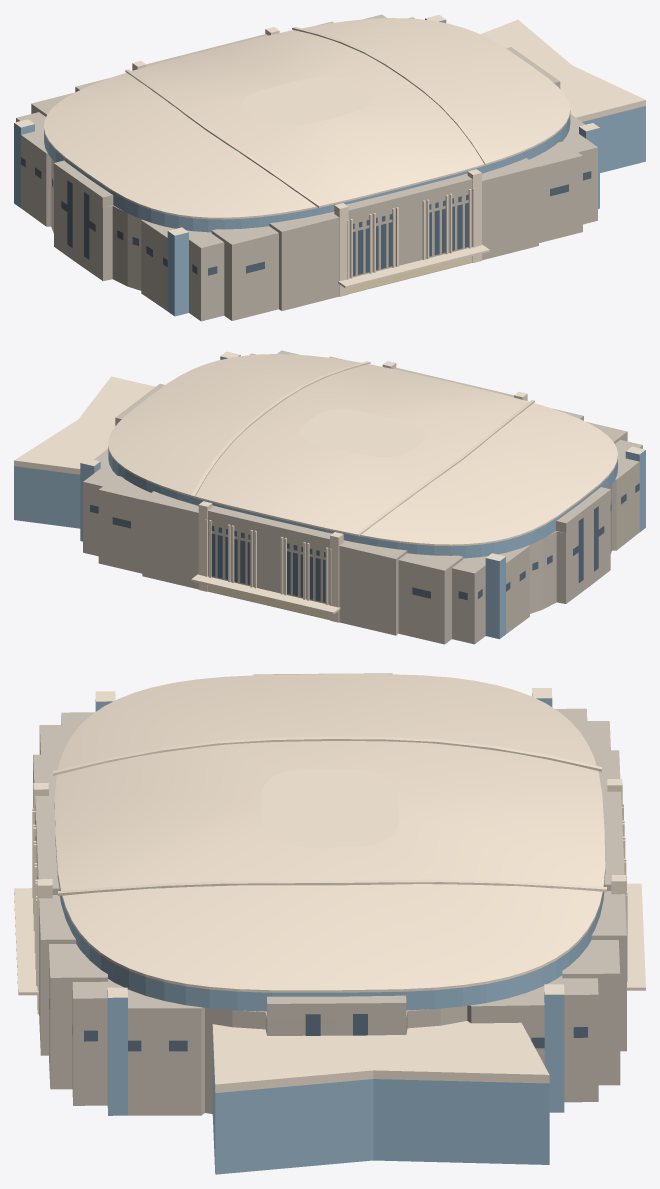
Rendered from detail.glb.
The picture shows the model from 3 angles, top to bottom: view 1: azimuth 30°, elevation 25°; view 2: azimuth 150°, elevation 25°; view 3: azimuth 270°, elevation 25°; orthographic projection. The views are drawn at different scales.
Visible parts, largest first — view 1: united-center; view 2: united-center; view 3: united-center.
Part boxes in pixels (box(x1,y1,x2,y2)): united-center: box(14, 14, 645, 321); united-center: box(14, 350, 645, 644); united-center: box(14, 673, 645, 1174).
Bounding box in the file's own units: 189 × 35.62 × 133.
